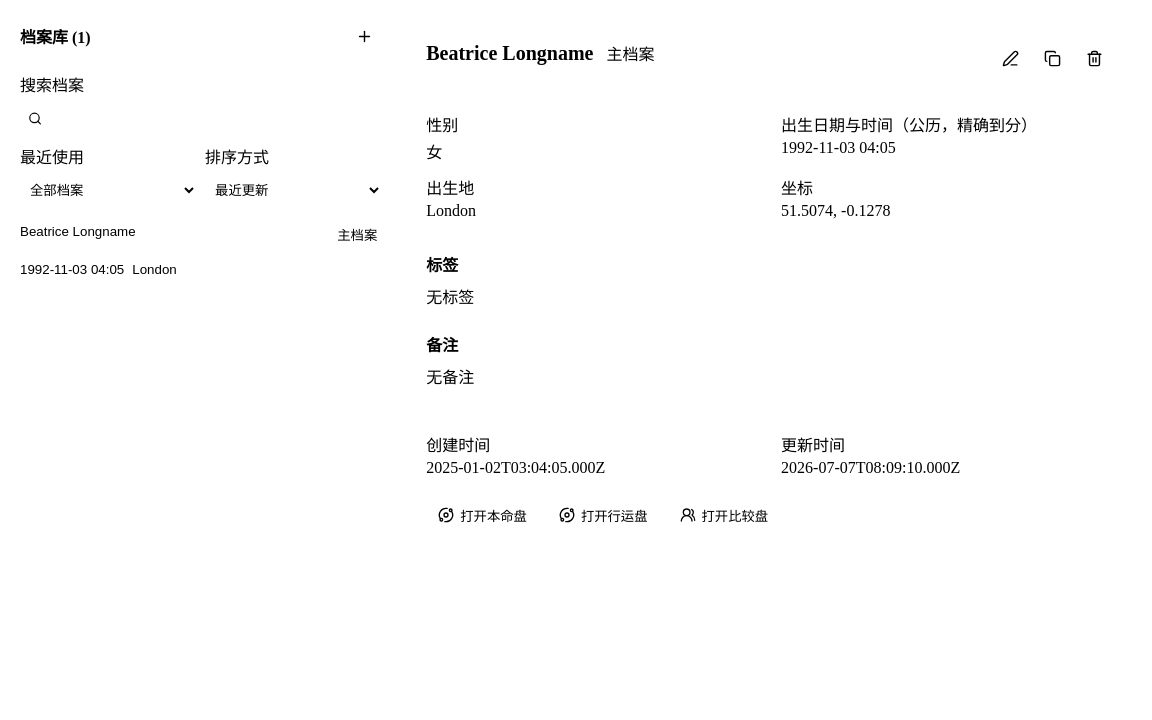
Scenario: duplicates with a clean payload, mandatory refetch, localized nonblank name, and canonical selection
Check: the heading "Beatrice Longname" is shown, box [426,42,593,64]
Click the button named "复制档案". click: [1052, 58]
box: [1034,40,1070,76]
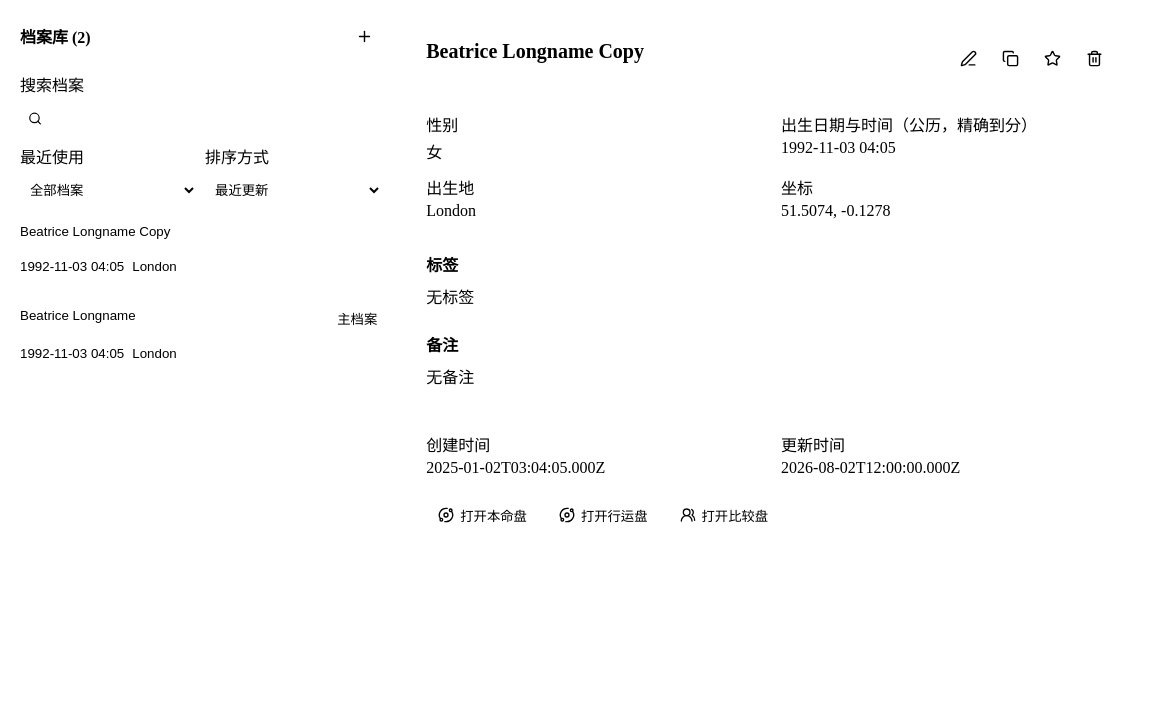
Check: the heading "Beatrice Longname Copy" is shown, box [426,40,644,63]
